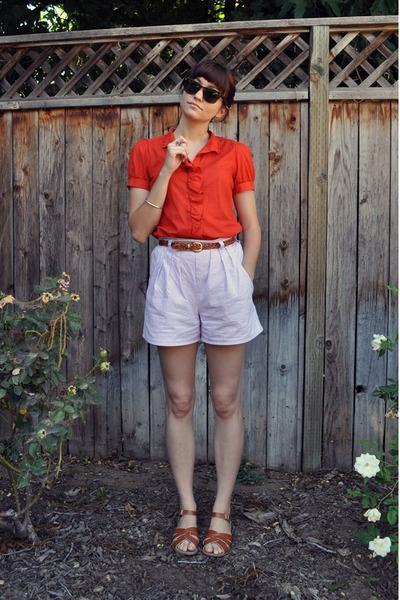shirt: (128, 132, 254, 227)
shoe: (185, 527, 230, 553)
shorts: (143, 238, 262, 345)
